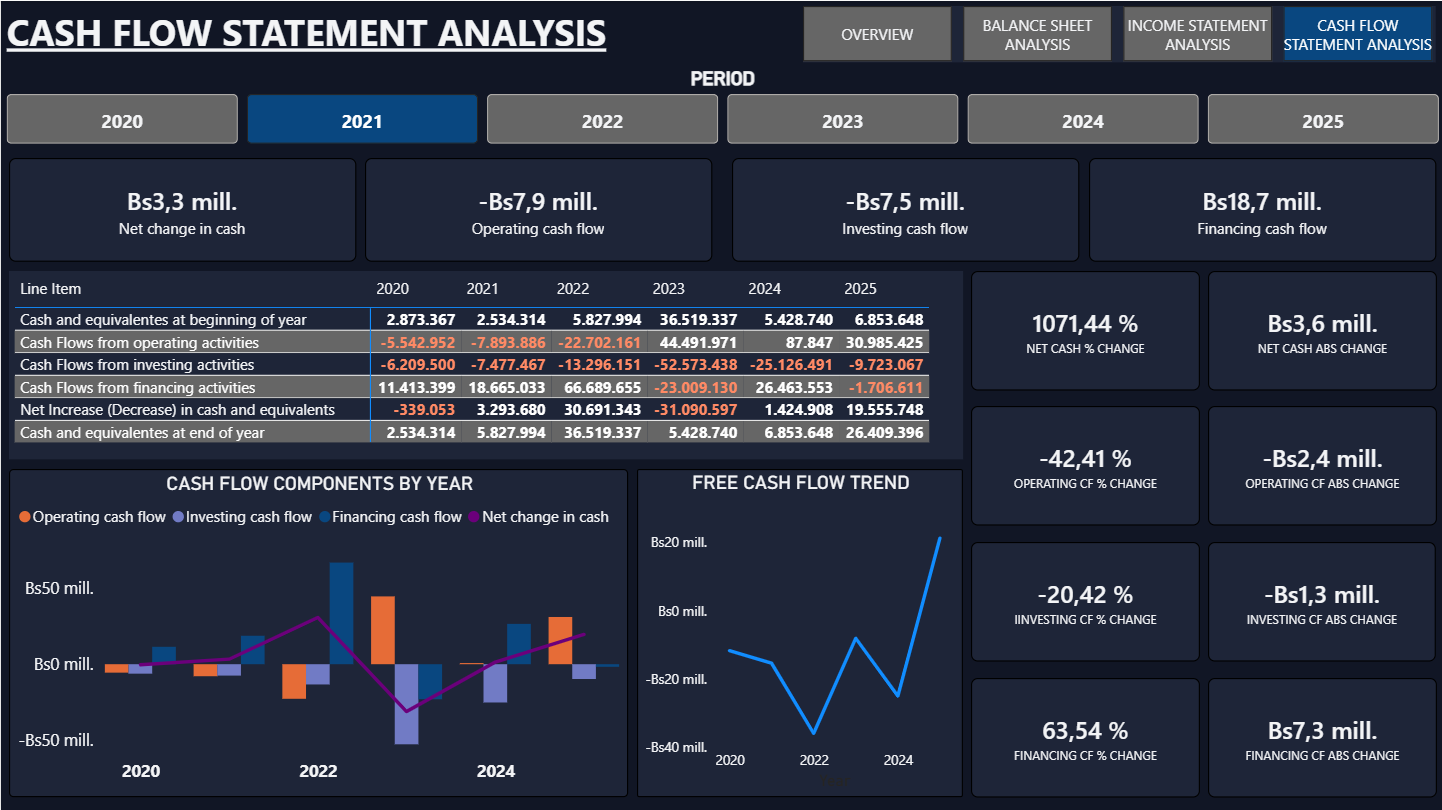

The page's visual inventory and layout, read from the dashboard file:
{"tool":"powerbi","page":{"name":"CASH FLOW STATEMENT ANALYSIS","canvas":[1280,720],"ordinal":3},"visuals":[{"type":"textbox","box":[0,0,541.7,58.5],"z":0},{"type":"advancedSlicerVisual","title":"PERIOD","fields":{"Values":["DimFecha.Año"]},"box":[0,58.5,1280,73.5],"z":1000},{"type":"cardVisual","fields":{"Data":["DimCategoria.Operating cash flow"]},"box":[323.1,139,307.8,92],"z":2000},{"type":"cardVisual","fields":{"Data":["DimCategoria.Investing cash flow"]},"box":[648.1,139,307.8,92],"z":3000},{"type":"cardVisual","fields":{"Data":["DimCategoria.Financing cash flow"]},"box":[964.6,139,307.8,92],"z":4000},{"type":"cardVisual","fields":{"Data":["DimCategoria.Cash net change"]},"box":[6.7,139,307.8,92],"z":5000},{"type":"lineClusteredColumnComboChart","title":"CASH FLOW COMPONENTS BY YEAR","fields":{"Category":["DimFecha.Año"],"Y":["DimCategoria.Operating cash flow","DimCategoria.Investing cash flow","DimCategoria.Financing cash flow"],"Y2":["DimCategoria.Cash net change"]},"box":[6.7,415.2,549.4,291.5],"z":6000},{"type":"pivotTable","fields":{"Columns":["DimFecha.Año"],"Rows":["DimCategoria.Cuenta_EN"],"Values":["Sum(FactEEFF.Valor)"]},"box":[6.7,239.7,845.7,166.8],"z":7000},{"type":"cardVisual","fields":{"Data":["MEDIDAS.Financing CF % Var"]},"box":[860,600.2,203.3,106.4],"z":8000},{"type":"cardVisual","fields":{"Data":["MEDIDAS.Net Change CF % Var"]},"box":[860,239.7,203.3,106.4],"z":9000},{"type":"cardVisual","fields":{"Data":["MEDIDAS.Investing CF % Var"]},"box":[860,479.4,203.3,106.4],"z":10000},{"type":"cardVisual","fields":{"Data":["MEDIDAS.Operating CF % Var"]},"box":[860,359.6,203.3,106.4],"z":11000},{"type":"pageNavigator","box":[711.4,4.8,560.9,49.9],"z":12000},{"type":"lineChart","title":"FREE CASH FLOW TREND","fields":{"Category":["DimFecha.Año"],"Y":["DimCategoria.fcf"]},"box":[563.8,415.2,288.6,291.5],"z":13000},{"type":"cardVisual","fields":{"Data":["DimCategoria.Operating CF Var Abs"]},"box":[1070,359.6,203.3,106.4],"z":14000},{"type":"cardVisual","fields":{"Data":["DimCategoria.Investing CF Var Abs"]},"box":[1070,479.4,202.3,106.4],"z":15000},{"type":"cardVisual","fields":{"Data":["DimCategoria.Financing CF Var Abs"]},"box":[1070,600.2,203.3,106.4],"z":16000},{"type":"cardVisual","fields":{"Data":["DimCategoria.Net Change CF Var Abs"]},"box":[1070,239.7,203.3,106.4],"z":17000}]}

Visuals, with their boxes in screenshot pixels (x1, y1, x2, y2), scaled from the page's 1280x720 canvas onto the 1442x810 screenshot:
textbox: 0/0/610/66
"PERIOD" advancedSlicerVisual: 0/66/1441/148
cardVisual - DimCategoria.Operating cash flow: 364/156/711/260
cardVisual - DimCategoria.Investing cash flow: 730/156/1077/260
cardVisual - DimCategoria.Financing cash flow: 1087/156/1433/260
cardVisual - DimCategoria.Cash net change: 8/156/354/260
"CASH FLOW COMPONENTS BY YEAR" lineClusteredColumnComboChart: 8/467/626/795
pivotTable - DimFecha.Año x DimCategoria.Cuenta_EN: 8/270/960/457
cardVisual - MEDIDAS.Financing CF % Var: 969/675/1198/795
cardVisual - MEDIDAS.Net Change CF % Var: 969/270/1198/389
cardVisual - MEDIDAS.Investing CF % Var: 969/539/1198/659
cardVisual - MEDIDAS.Operating CF % Var: 969/405/1198/524
pageNavigator: 801/5/1433/62
"FREE CASH FLOW TREND" lineChart: 635/467/960/795
cardVisual - DimCategoria.Operating CF Var Abs: 1205/405/1434/524
cardVisual - DimCategoria.Investing CF Var Abs: 1205/539/1433/659
cardVisual - DimCategoria.Financing CF Var Abs: 1205/675/1434/795
cardVisual - DimCategoria.Net Change CF Var Abs: 1205/270/1434/389
